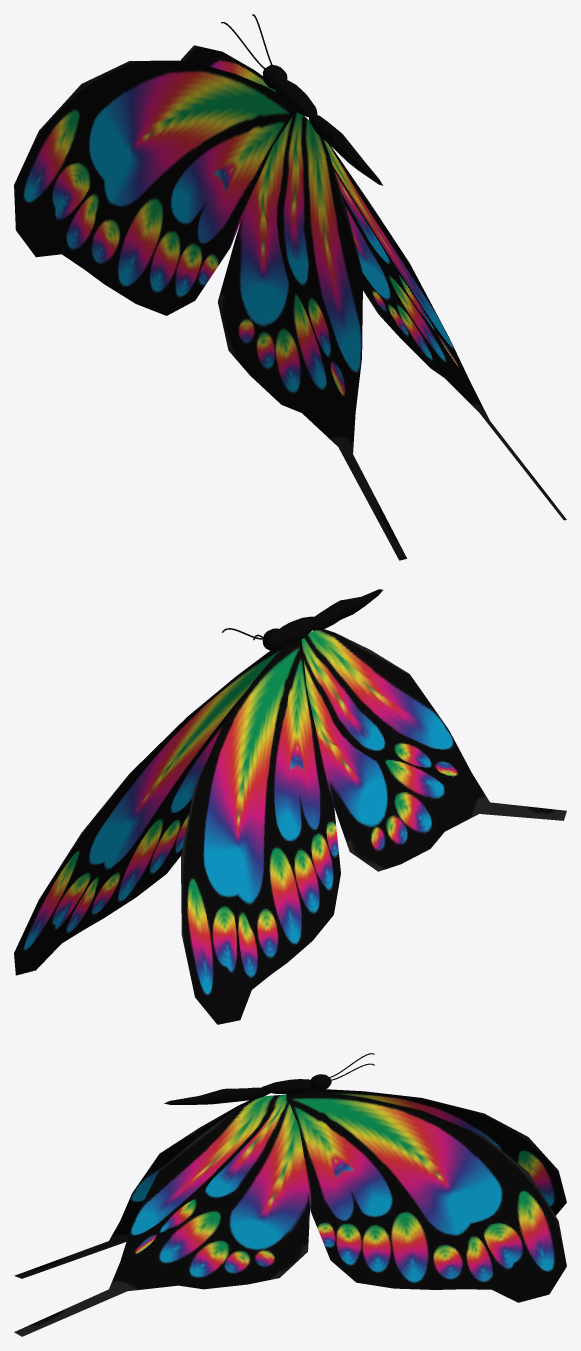
The model's file is butterfly.fbx.
3 renders of one model, top to bottom at view 1: azimuth 30°, elevation 25°; view 2: azimuth 150°, elevation 25°; view 3: azimuth 270°, elevation 25°, orthographic. The views are drawn at different scales.
Visible parts, largest first — view 1: left wing, right wing, Cube; view 2: left wing, right wing, Cube; view 3: right wing, left wing, Cube.
Part boxes in pixels (x1=…): left wing: x1=14, y1=60, x2=406, y2=560; right wing: x1=181, y1=45, x2=566, y2=520; Cube: x1=262, y1=65, x2=383, y2=185; left wing: x1=181, y1=629, x2=566, y2=1024; right wing: x1=14, y1=632, x2=311, y2=975; Cube: x1=262, y1=589, x2=382, y2=651; right wing: x1=14, y1=1091, x2=566, y2=1336; left wing: x1=14, y1=1089, x2=566, y2=1278; Cube: x1=164, y1=1074, x2=331, y2=1104.
Size of the model in its own units: 1198 by 1933 by 3885.
Materials: 4 (1 with a texture image).
